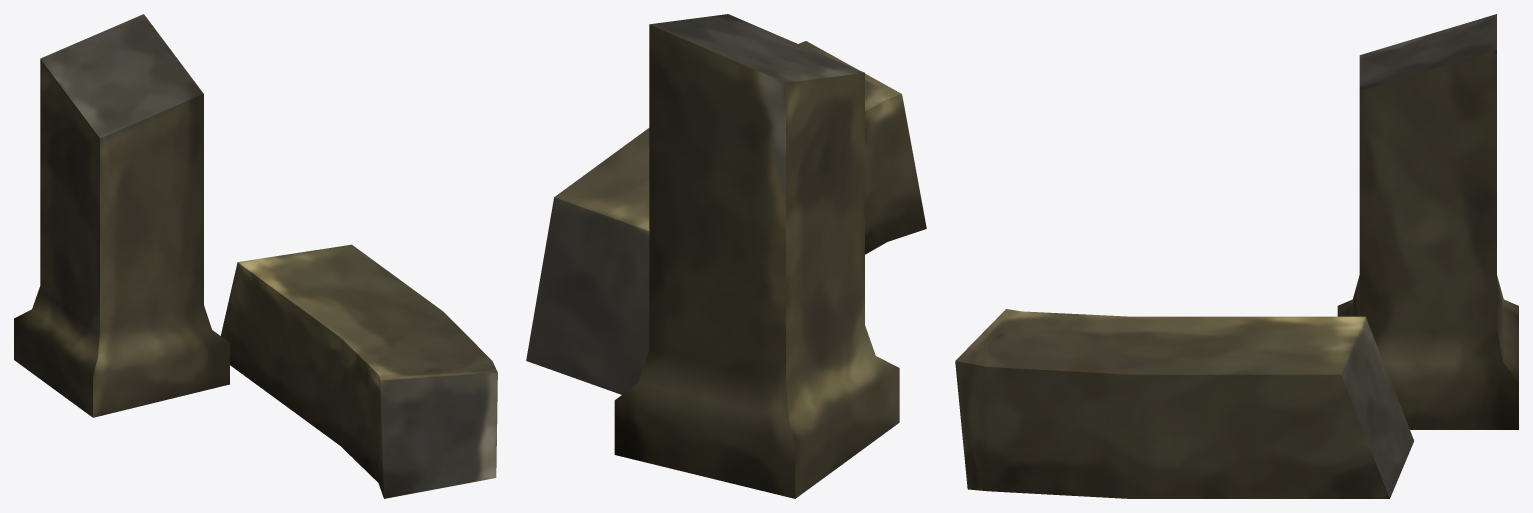
File: BrokeColumn2c.fbx
3 renders of one model, left to right at view 1: azimuth 30°, elevation 25°; view 2: azimuth 150°, elevation 25°; view 3: azimuth 270°, elevation 25°, orthographic. The views are drawn at different scales.
Visible parts, largest first — view 1: polySurface6; view 2: polySurface6; view 3: polySurface6.
Part boxes in pixels (<box>): polySurface6: <box>14,14,497,498</box>; polySurface6: <box>526,14,926,498</box>; polySurface6: <box>955,14,1518,498</box>.
Bounding box in the file's own units: 1.26 × 1.49 × 2.05.
